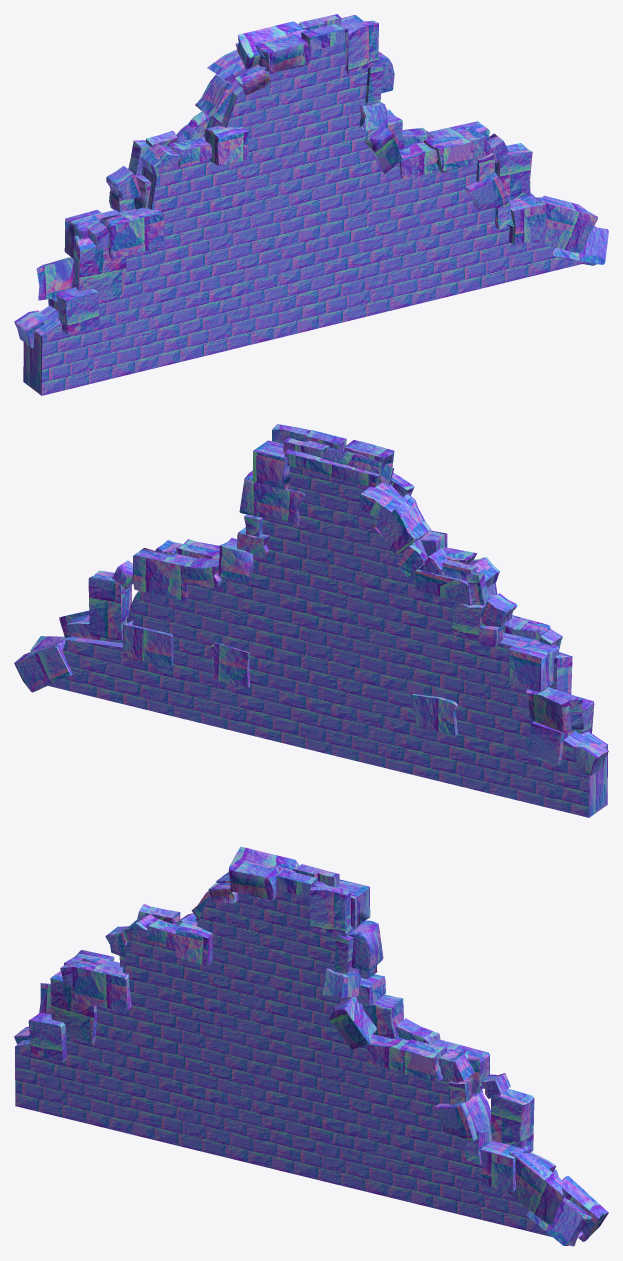
The model's file is SMALL_RUINED_WALL_LOD1.fbx.
3 views of the same model, one above another, from view 1: azimuth 30°, elevation 25°; view 2: azimuth 150°, elevation 25°; view 3: azimuth 330°, elevation 25° (orthographic).
Parts seen in each view (by area): view 1: SMALL_RUINED_WALL; view 2: SMALL_RUINED_WALL; view 3: SMALL_RUINED_WALL.
Boxes of the visible parts, x1=… form: SMALL_RUINED_WALL: x1=14, y1=14, x2=608, y2=395; SMALL_RUINED_WALL: x1=14, y1=424, x2=608, y2=817; SMALL_RUINED_WALL: x1=14, y1=846, x2=608, y2=1246.
Bounding box in the file's own units: 2395 × 1219 × 267.
Materials: 2 (2 with a texture image).
